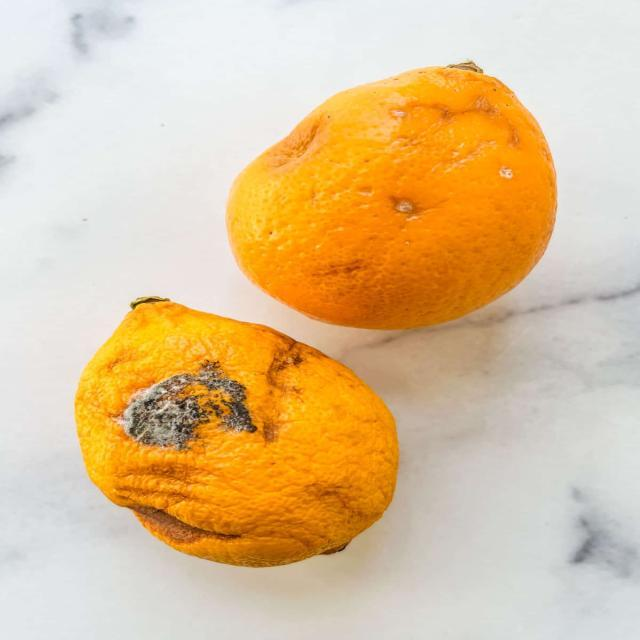Rotten: (224, 57, 558, 326), (75, 293, 398, 570)
